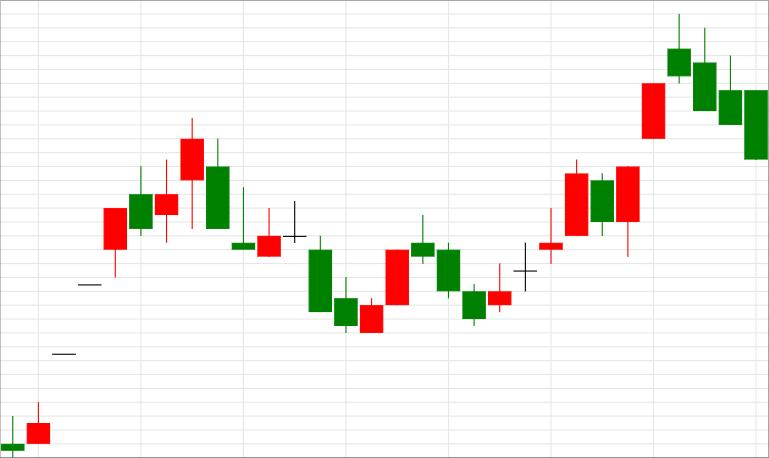shooting_star_fall: (539, 15, 691, 265)
